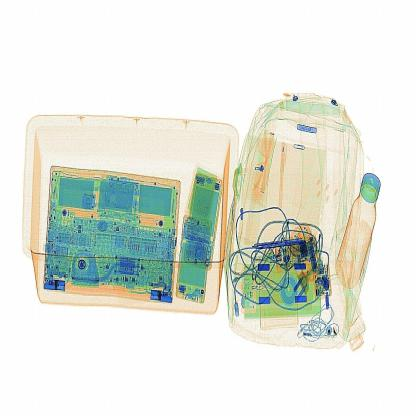pliers: (244, 230, 308, 260)
